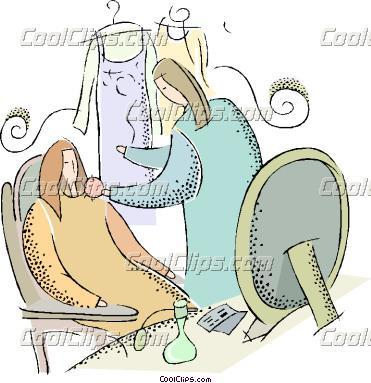person: (94, 61, 273, 305), (12, 133, 194, 332)
